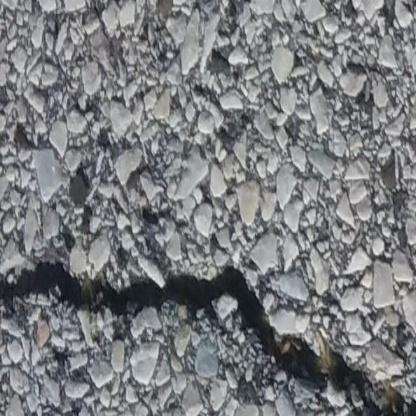Cracks: (0, 252, 416, 416)
